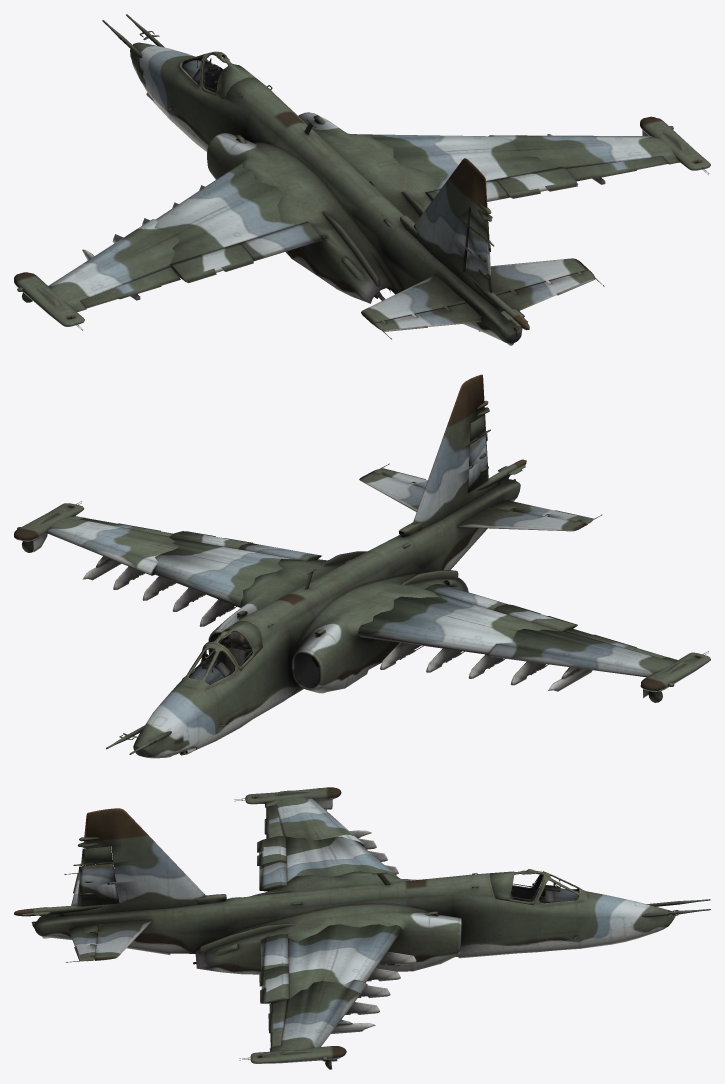
The picture shows the model from 3 angles, top to bottom: view 1: azimuth 30°, elevation 25°; view 2: azimuth 150°, elevation 25°; view 3: azimuth 270°, elevation 25°; orthographic projection. The views are drawn at different scales.
Parts seen in each view (by area): view 1: body|mat_1.012; view 2: body|mat_1.012; view 3: body|mat_1.012.
Boxes of the visible parts, x1,y1,x2,y2 form: body|mat_1.012: (14,14,710,345); body|mat_1.012: (14,374,710,758); body|mat_1.012: (14,787,710,1069).
Bounding box in the file's own units: 14.28 × 3.71 × 15.53.
Materials: 2 (2 with a texture image).
